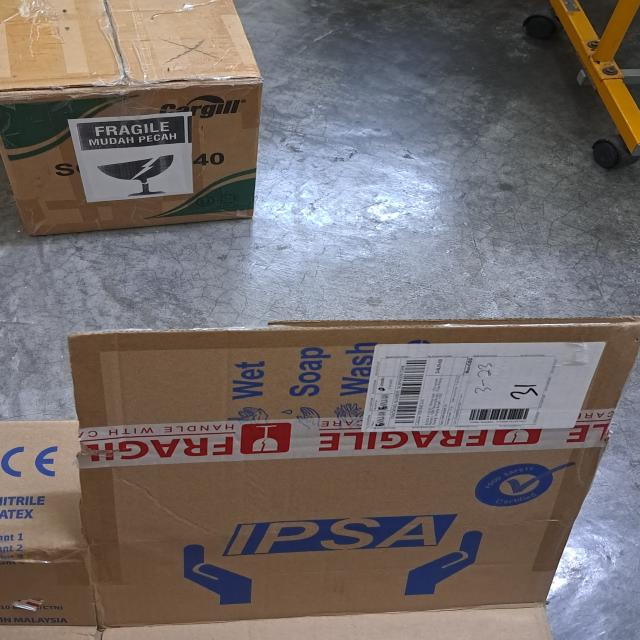cardboard: (0, 317, 640, 640), (0, 0, 263, 235)
